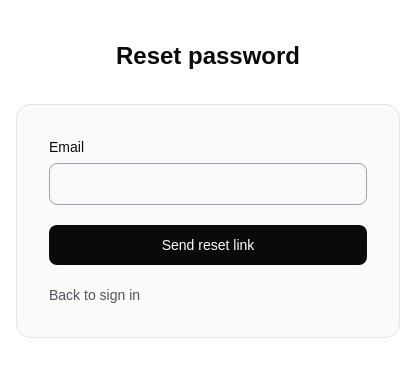
Test: sends recovery links back to the deployed origin without revealing account existence
The width and height of the screenshot is (417, 385).
Step 1. Type "me@example.test" into the field labelled "Email" → (208, 184), box [49,163,367,205]
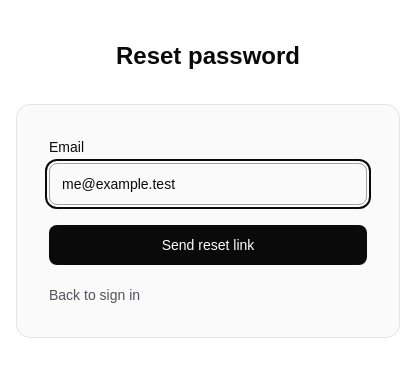
Step 2. Click the button "Send reset link" → (208, 245), box [49,225,367,265]
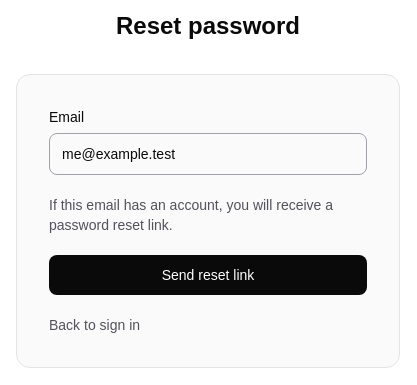
Check: the message shows "If this email has an account", box [49,197,333,233]
